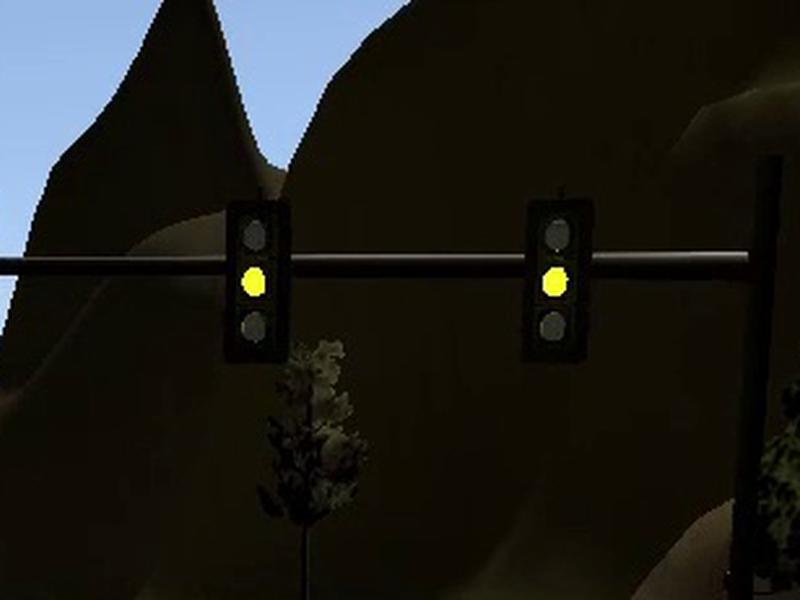Yellow: (521, 197, 596, 363), (221, 198, 291, 365)
